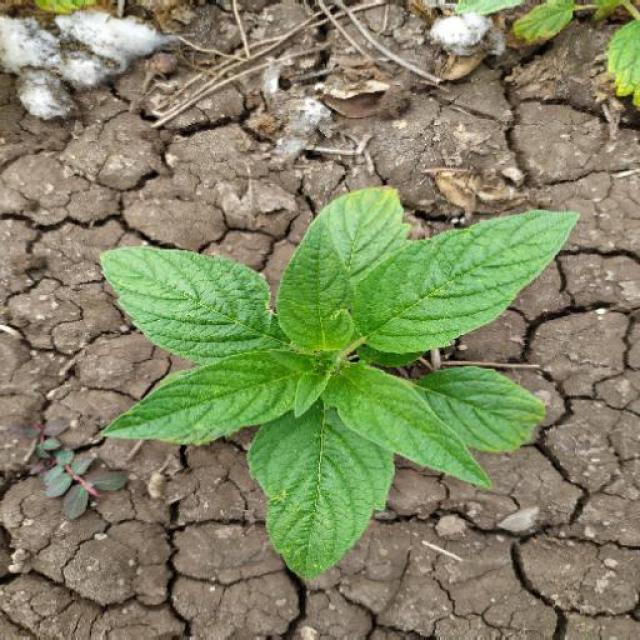crop: (98, 175, 598, 570)
